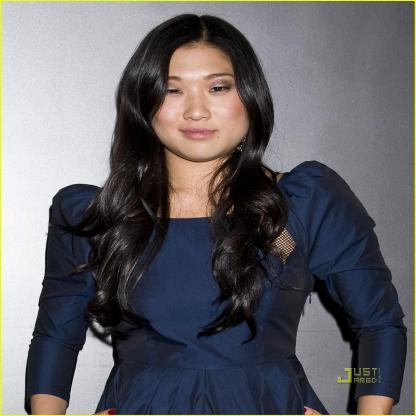long-hair: (103, 164, 282, 204)
